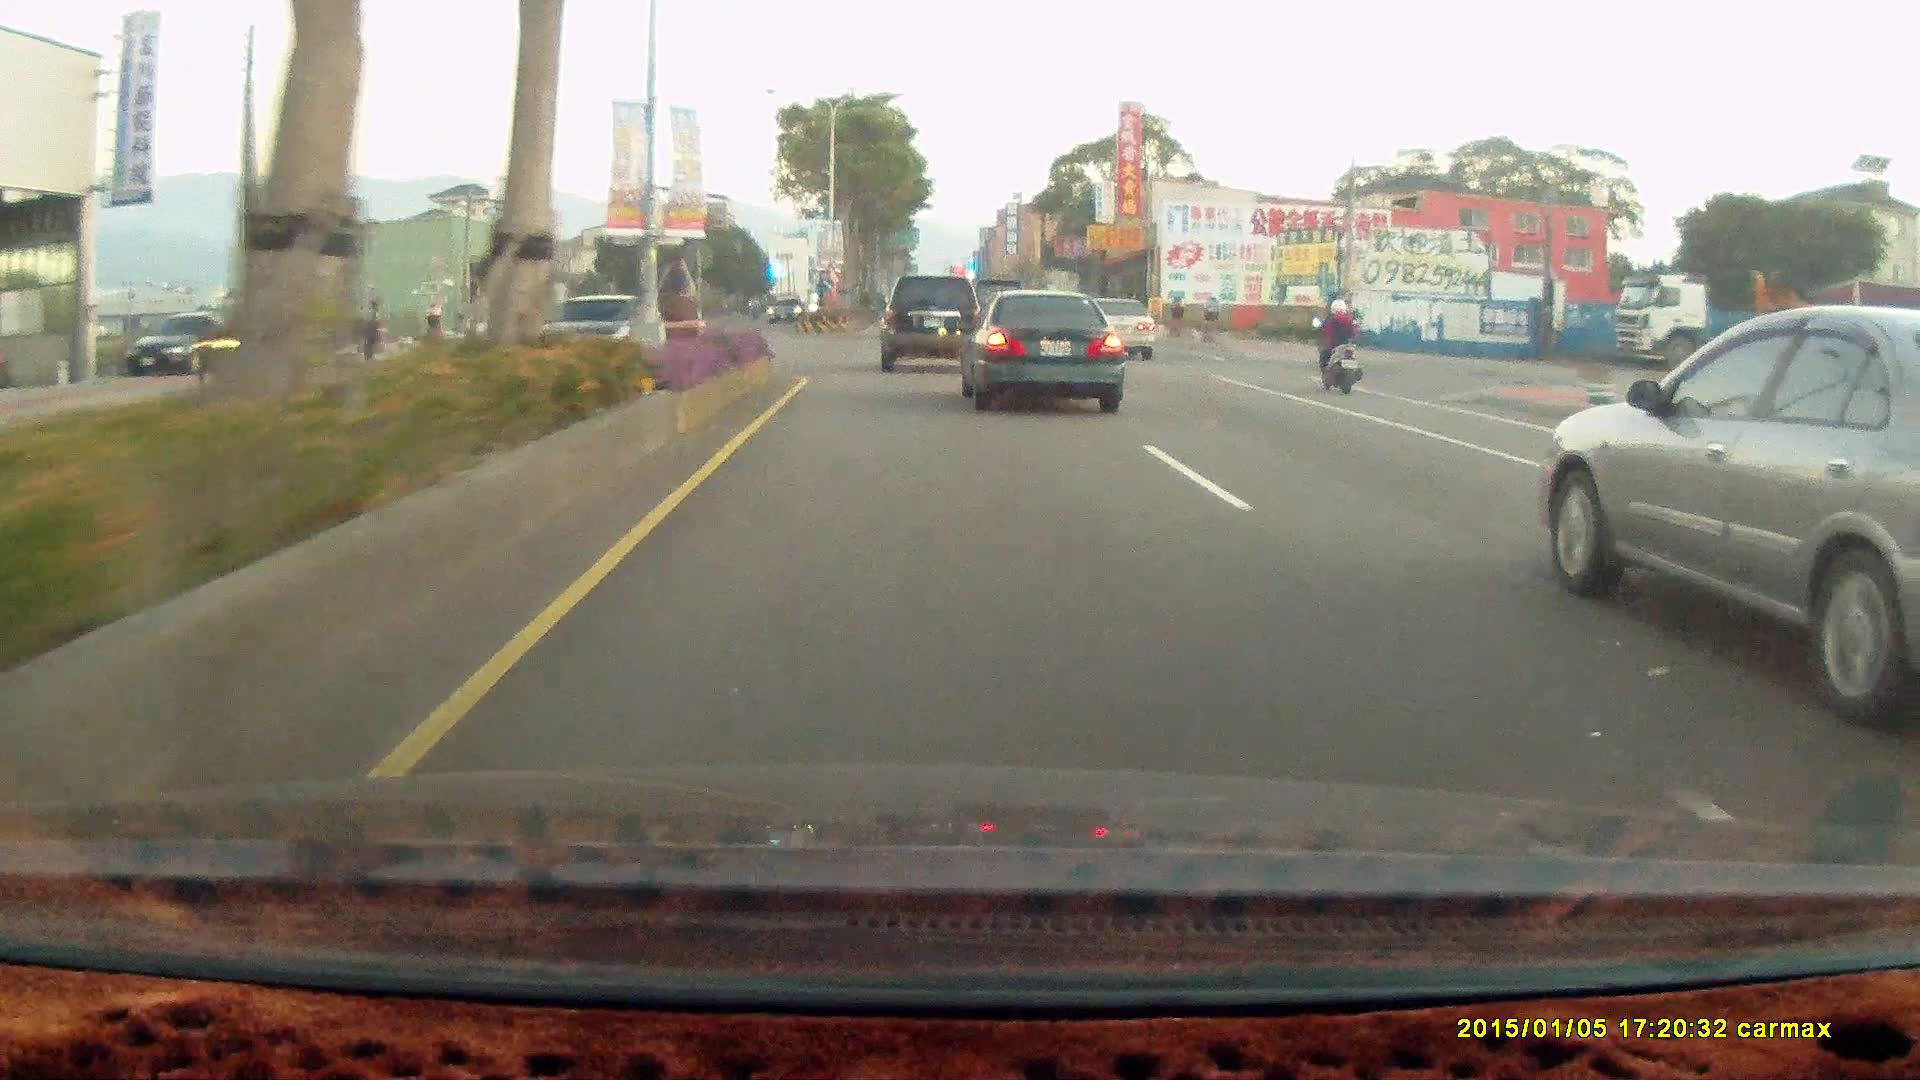pedestrian: (193, 314, 221, 386), (345, 314, 379, 363)
rider: (1303, 291, 1372, 401), (1308, 292, 1364, 389)
vehicle: (1538, 305, 1920, 732), (1612, 272, 1920, 370), (950, 290, 1118, 413), (966, 294, 1130, 415), (880, 274, 988, 374), (538, 288, 658, 374), (879, 274, 982, 371), (539, 288, 642, 374), (117, 311, 229, 379), (124, 313, 234, 378), (1075, 297, 1159, 363), (766, 297, 808, 325), (766, 296, 805, 324)
